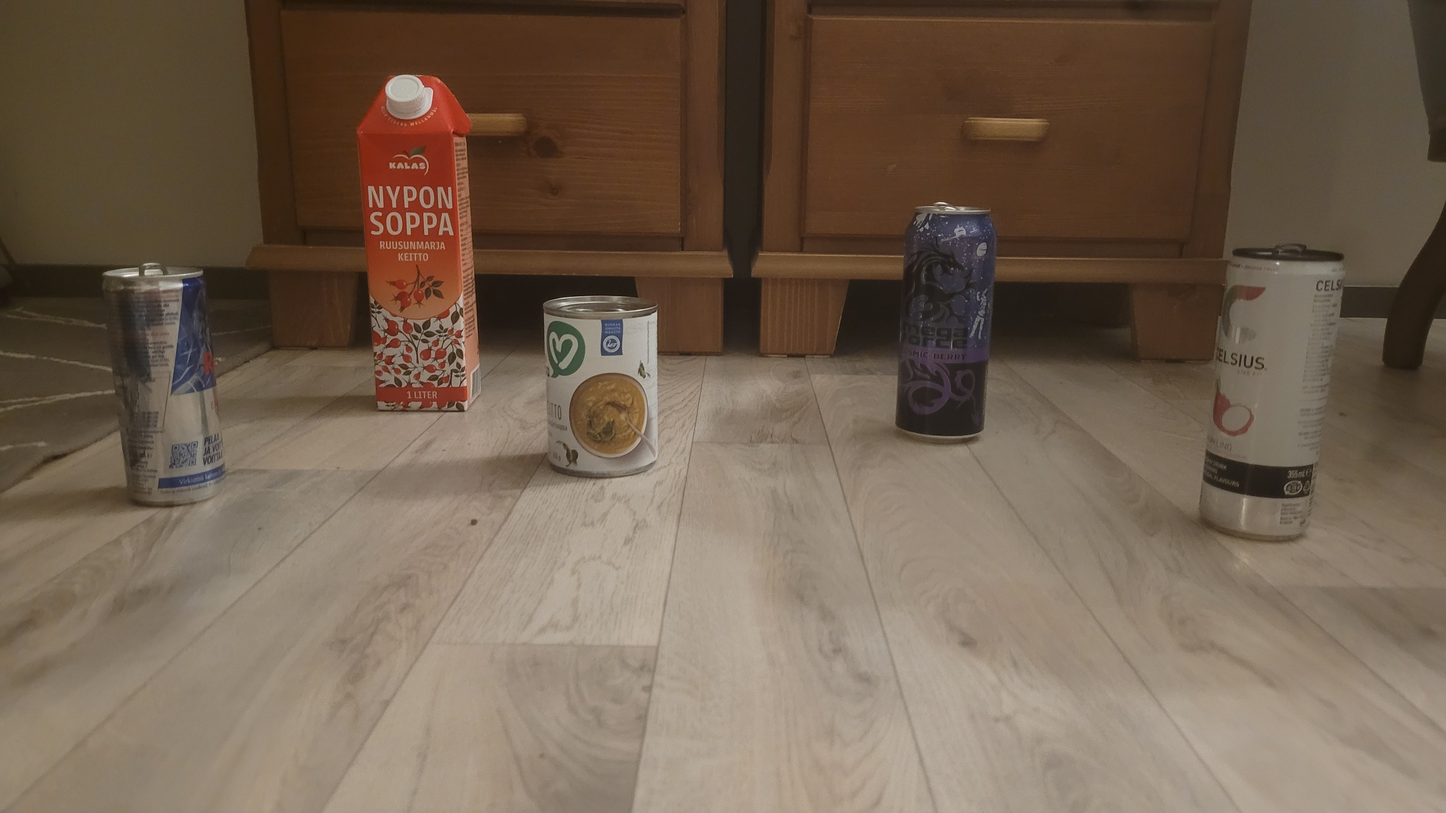Dryckeskartong: (356, 74, 484, 412)
Konservburk: (542, 294, 660, 479)
Pantburk: (1197, 243, 1346, 541), (101, 233, 227, 508), (898, 200, 997, 442)
